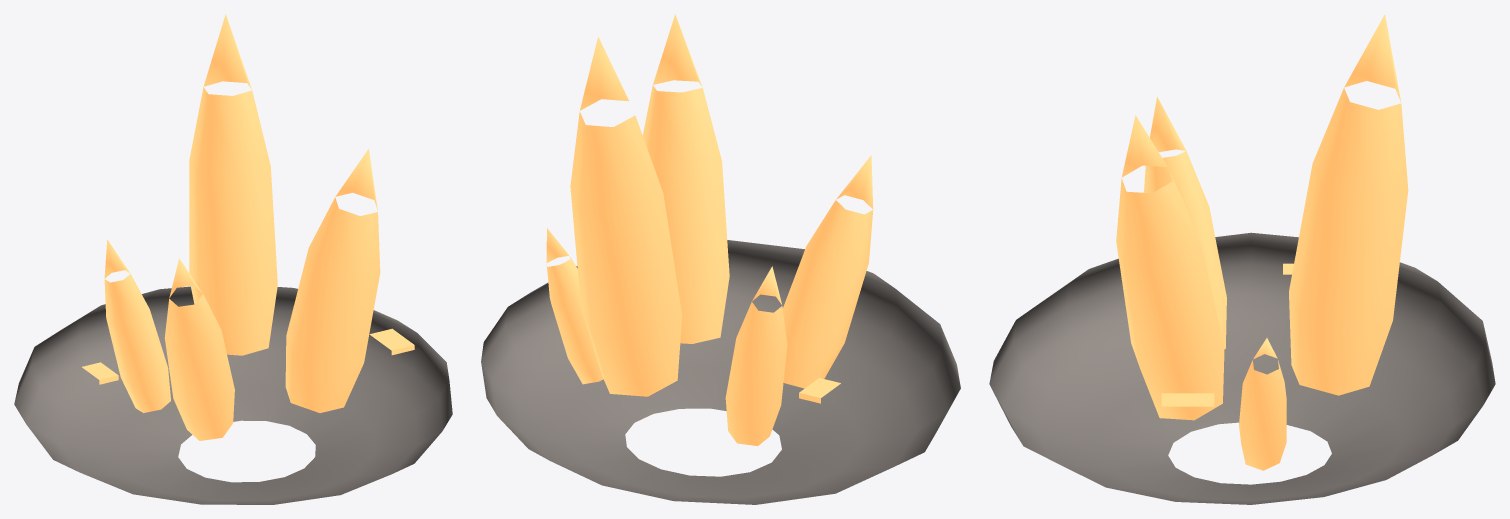
The model's file is SM_Node_Pyronite.glb.
The picture shows the model from 3 angles, left to right: view 1: azimuth 30°, elevation 25°; view 2: azimuth 150°, elevation 25°; view 3: azimuth 270°, elevation 25°; orthographic projection. The views are drawn at different scales.
Parts seen in each view (by area): view 1: SM_Node_Pyronite; view 2: SM_Node_Pyronite; view 3: SM_Node_Pyronite.
Boxes of the visible parts, left/top/right/bottom form: SM_Node_Pyronite: left=14, top=14, right=452, bottom=504; SM_Node_Pyronite: left=481, top=14, right=960, bottom=504; SM_Node_Pyronite: left=989, top=14, right=1495, bottom=504.
Size of the model in its own units: 0.9776 by 0.9674 by 0.9589.
